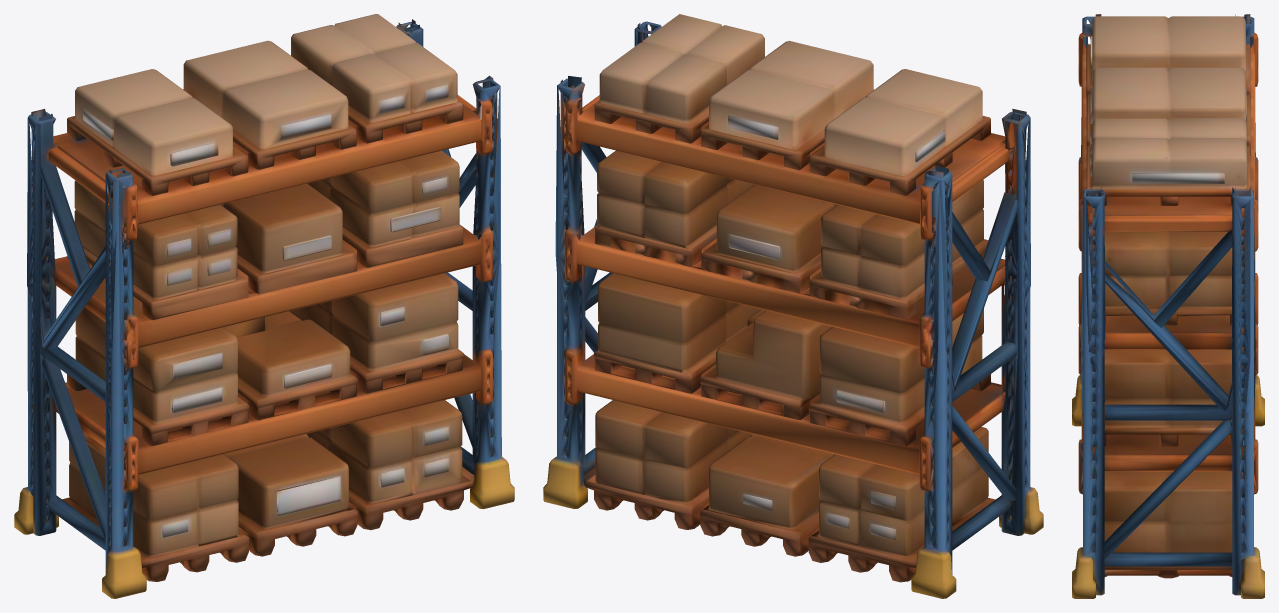
The model's file is warehouse_shelf_b7b87618_v2.glb.
3 views of the same model, side by side, from view 1: azimuth 30°, elevation 25°; view 2: azimuth 150°, elevation 25°; view 3: azimuth 270°, elevation 25° (orthographic). The views are drawn at different scales.
Parts seen in each view (by area): view 1: material; view 2: material; view 3: material.
Part boxes in pixels (left/top/right/bottom): material: left=14, top=14, right=514, bottom=598; material: left=543, top=14, right=1043, bottom=598; material: left=1072, top=14, right=1264, bottom=598.
Size of the model in its own units: 1.84 by 1.9 by 0.7909.
Materials: 1 (1 with a texture image).
